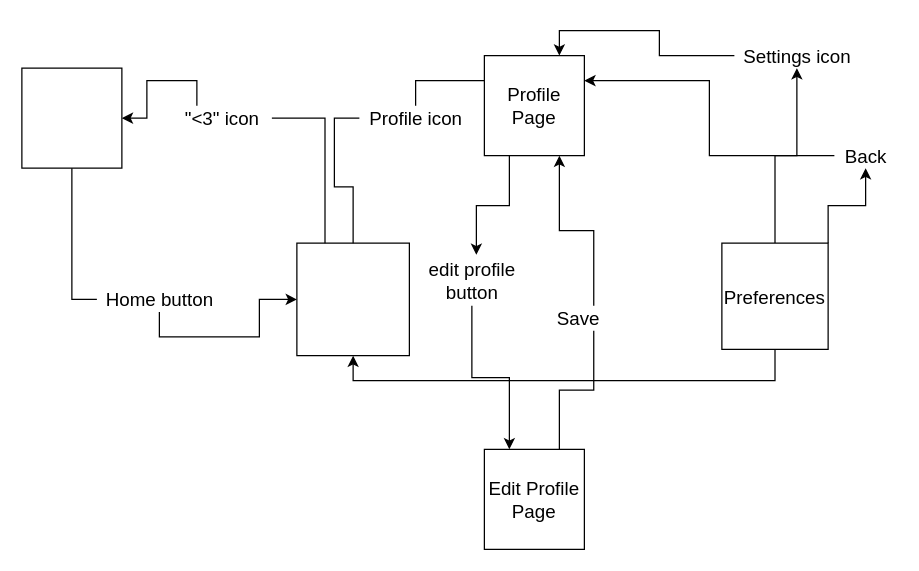
The diagram is 919 pixels wide and 571 high, and some of its shapes have lost their labels. The shapes that lost their labels are listed below. From the top down, each one's centre as x and y in pixels, then its label:
At pixel 71 117: "Favorites/ Watchlist".
At pixel 352 299: "Main Menu Page".
